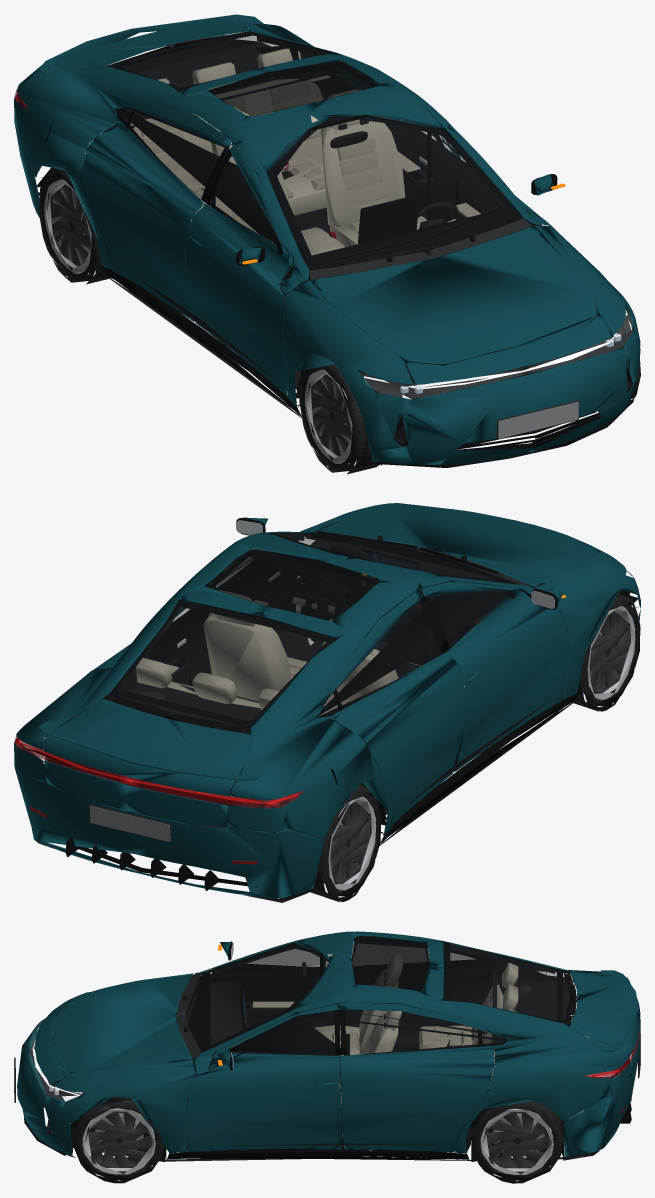
3 views of the same model, one above another, from view 1: azimuth 30°, elevation 25°; view 2: azimuth 150°, elevation 25°; view 3: azimuth 270°, elevation 25° (orthographic). The views are drawn at different scales.
Visible parts, largest first — view 1: Body, Wheel_FR, Wheel_RR; view 2: Body, Wheel_RR, Wheel_FR, Steering_Wheel; view 3: Body, Wheel_RL, Wheel_FL.
Part boxes in pixels (bbox=[...]): Body: bbox=[14, 14, 640, 467]; Wheel_FR: bbox=[299, 364, 379, 474]; Wheel_RR: bbox=[38, 168, 111, 284]; Body: bbox=[14, 503, 640, 902]; Wheel_RR: bbox=[308, 784, 381, 902]; Wheel_FR: bbox=[560, 594, 640, 711]; Steering_Wheel: bbox=[286, 572, 344, 639]; Body: bbox=[14, 931, 640, 1161]; Wheel_RL: bbox=[471, 1101, 563, 1183]; Wheel_FL: bbox=[73, 1096, 163, 1183].
Bounding box in the file's own units: 2.09 × 1.39 × 4.6.
Materials: 57 (11 with a texture image).
